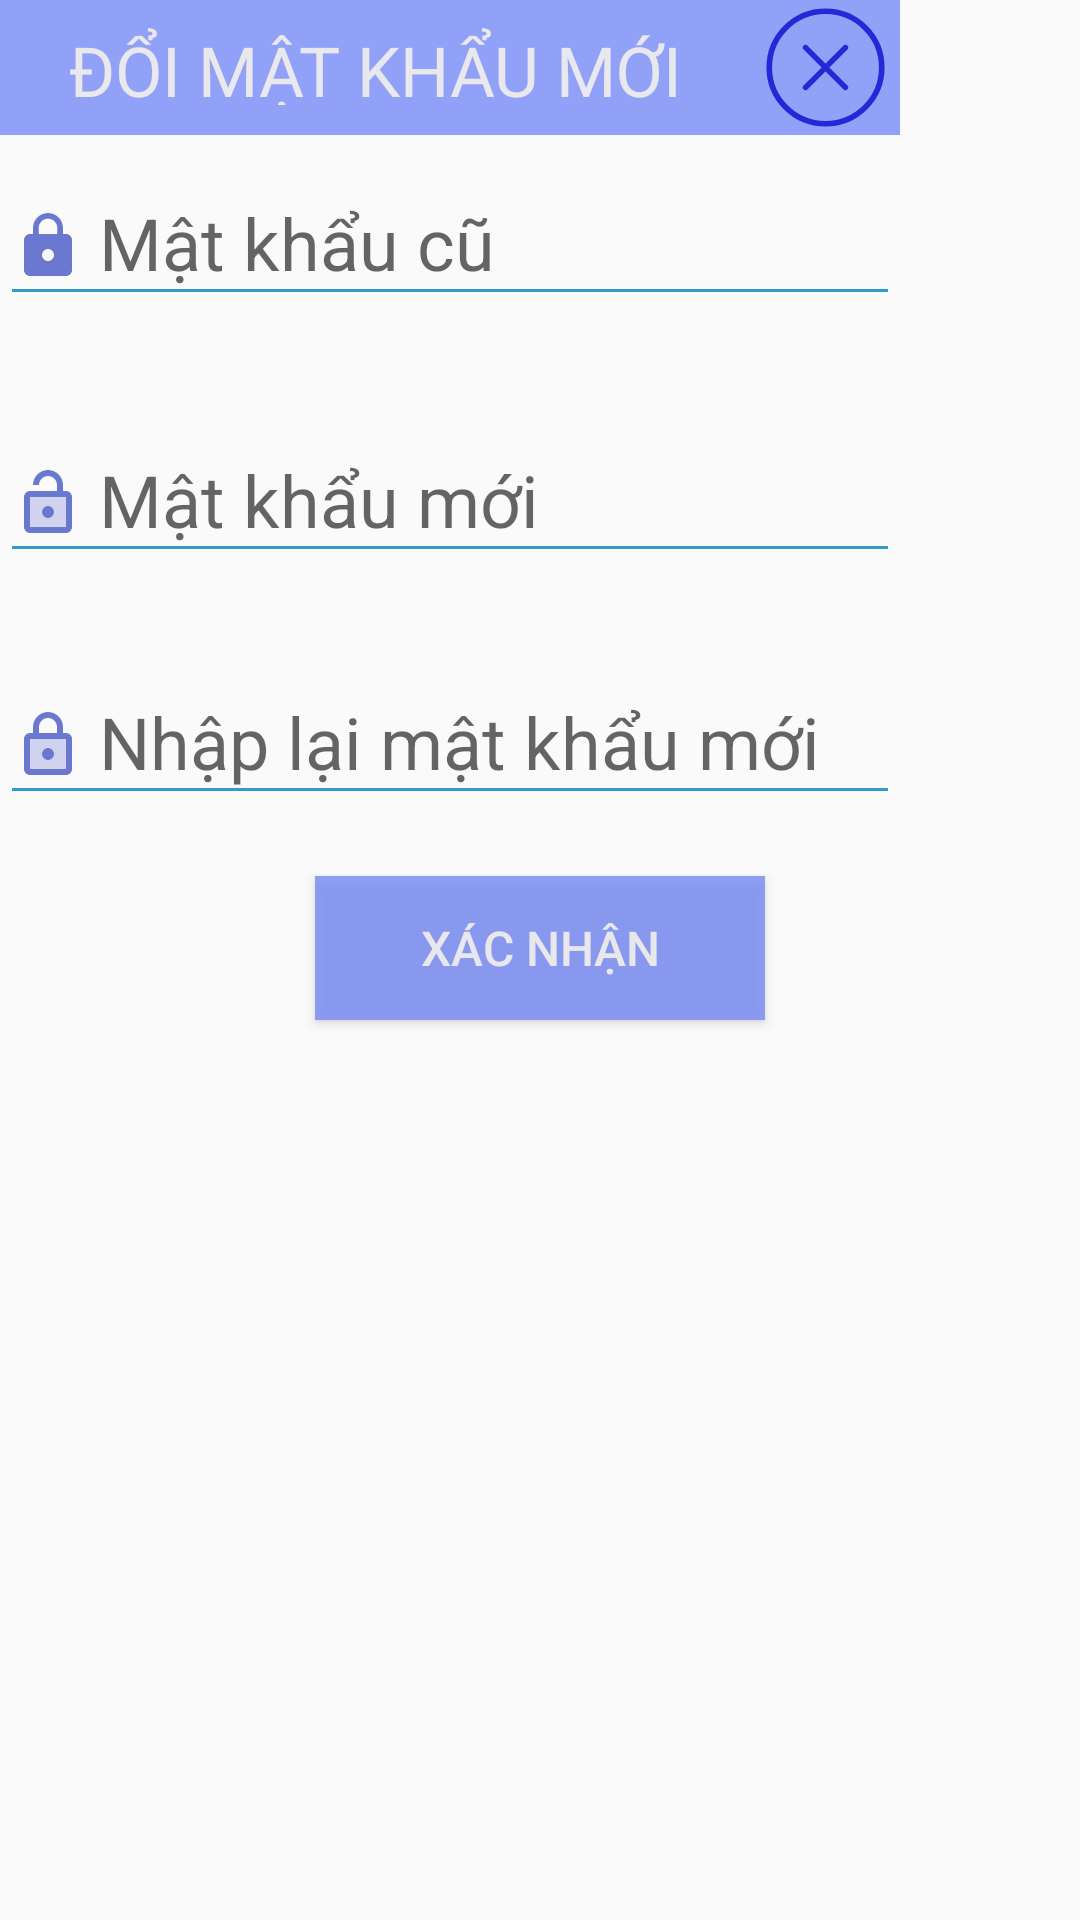

Screen size 1080 x 1920. Icon name, then its box in pixels as region(x1, y1, x2, y2):
cancel: region(766, 8, 885, 127)
